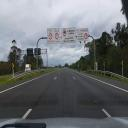speed_limit_110: (48, 33, 52, 40)
